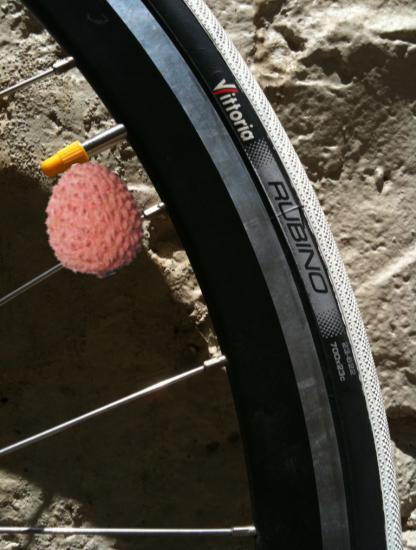Lychee: (34, 161, 152, 279)
